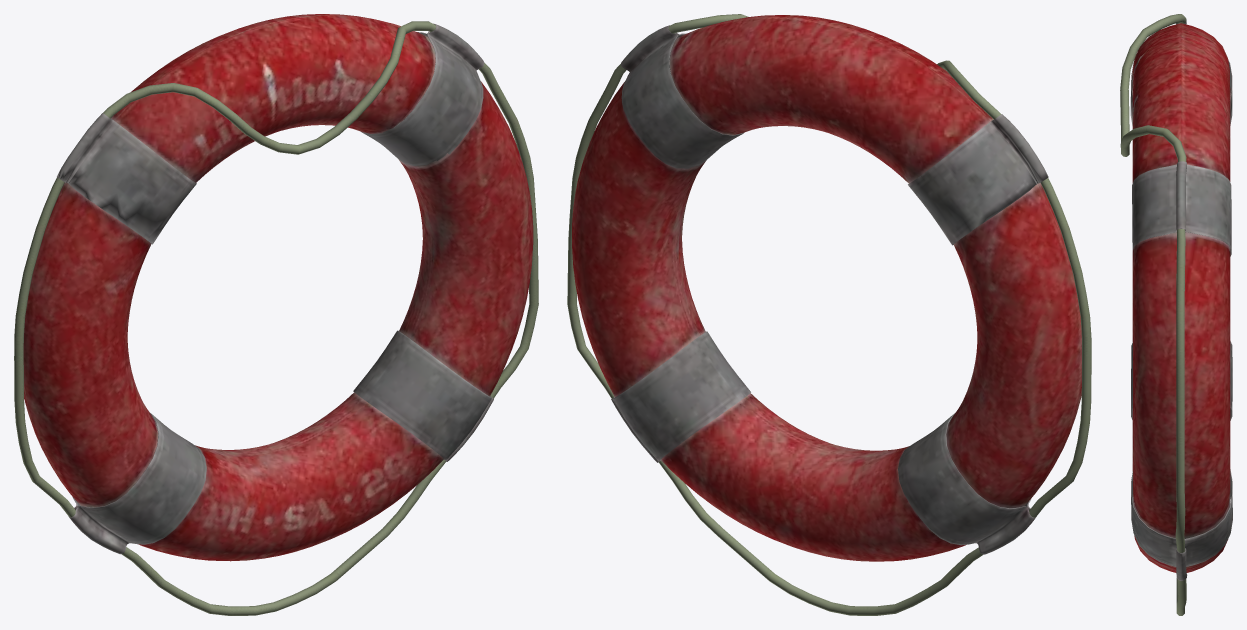
File: lifebuoy.4ccb8461.glb
The picture shows the model from 3 angles, left to right: view 1: azimuth 30°, elevation 25°; view 2: azimuth 150°, elevation 25°; view 3: azimuth 270°, elevation 25°; orthographic projection. The views are drawn at different scales.
Visible parts, largest first — view 1: lifebuoy; view 2: lifebuoy; view 3: lifebuoy.
Part boxes in pixels (x1,y1,x2,y2): lifebuoy: (14, 14, 538, 615); lifebuoy: (567, 14, 1091, 615); lifebuoy: (1120, 14, 1232, 615).
Bounding box in the file's own units: 0.931 × 1 × 0.1843.
1 material, 1 textured.
